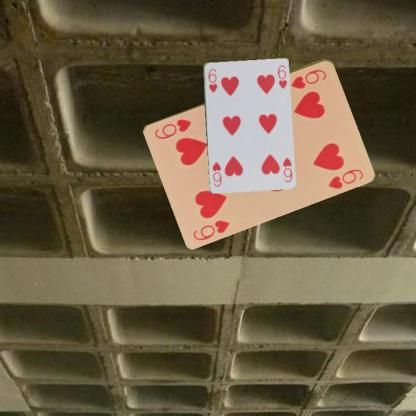6h: (190, 217, 231, 242), (288, 67, 328, 90), (280, 155, 294, 183), (206, 66, 218, 93)
